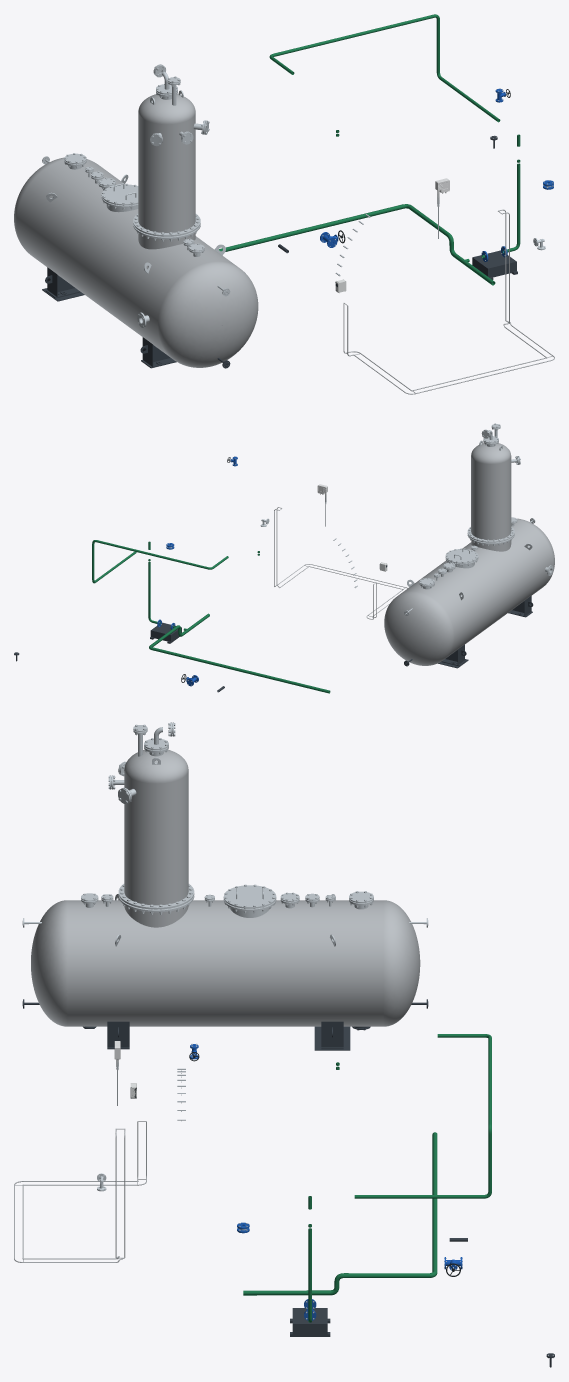
The model's file is s4000-1-DFS0E-gn.glb.
The picture shows the model from 3 angles, top to bottom: view 1: azimuth 30°, elevation 25°; view 2: azimuth 150°, elevation 25°; view 3: azimuth 270°, elevation 25°; orthographic projection. The views are drawn at different scales.
Visible parts, largest first — view 1: deaerator CAD solid 56, deaerator CAD solid 257, suction_common / green, cables / zinc, to_direct / green, pump_branch_2 / dark, deaerator CAD solid 408, pump_branch_2 / green; view 2: deaerator CAD solid 56, deaerator CAD solid 257, suction_common / green, cables / zinc, to_direct / green, deaerator CAD solid 408, pump_branch_2 / dark; view 3: deaerator CAD solid 56, deaerator CAD solid 257, suction_common / green, cables / zinc, to_direct / green, pump_branch_2 / dark, deaerator CAD solid 408.
Boxes of the visible parts, bbox=[...] form: deaerator CAD solid 56: bbox=[14, 157, 258, 367]; deaerator CAD solid 257: bbox=[138, 94, 195, 232]; suction_common / green: bbox=[219, 204, 495, 285]; cables / zinc: bbox=[343, 209, 554, 394]; to_direct / green: bbox=[269, 14, 500, 122]; pump_branch_2 / dark: bbox=[472, 250, 517, 279]; deaerator CAD solid 408: bbox=[101, 184, 138, 205]; pump_branch_2 / green: bbox=[465, 134, 520, 261]; deaerator CAD solid 56: bbox=[384, 518, 554, 665]; deaerator CAD solid 257: bbox=[471, 443, 511, 540]; suction_common / green: bbox=[149, 613, 330, 693]; cables / zinc: bbox=[274, 507, 407, 619]; to_direct / green: bbox=[92, 540, 221, 583]; deaerator CAD solid 408: bbox=[445, 549, 478, 563]; pump_branch_2 / dark: bbox=[150, 622, 181, 643]; deaerator CAD solid 56: bbox=[31, 900, 420, 1026]; deaerator CAD solid 257: bbox=[124, 749, 188, 905]; suction_common / green: bbox=[243, 1132, 437, 1295]; cables / zinc: bbox=[14, 1121, 146, 1262]; to_direct / green: bbox=[354, 1034, 491, 1198]; pump_branch_2 / dark: bbox=[290, 1308, 330, 1336]; deaerator CAD solid 408: bbox=[223, 885, 276, 908].
Size of the model in its own units: 8.16 by 4.82 by 6.07.
